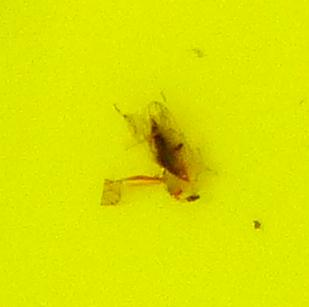Hemiptera: (100, 100, 209, 207)
